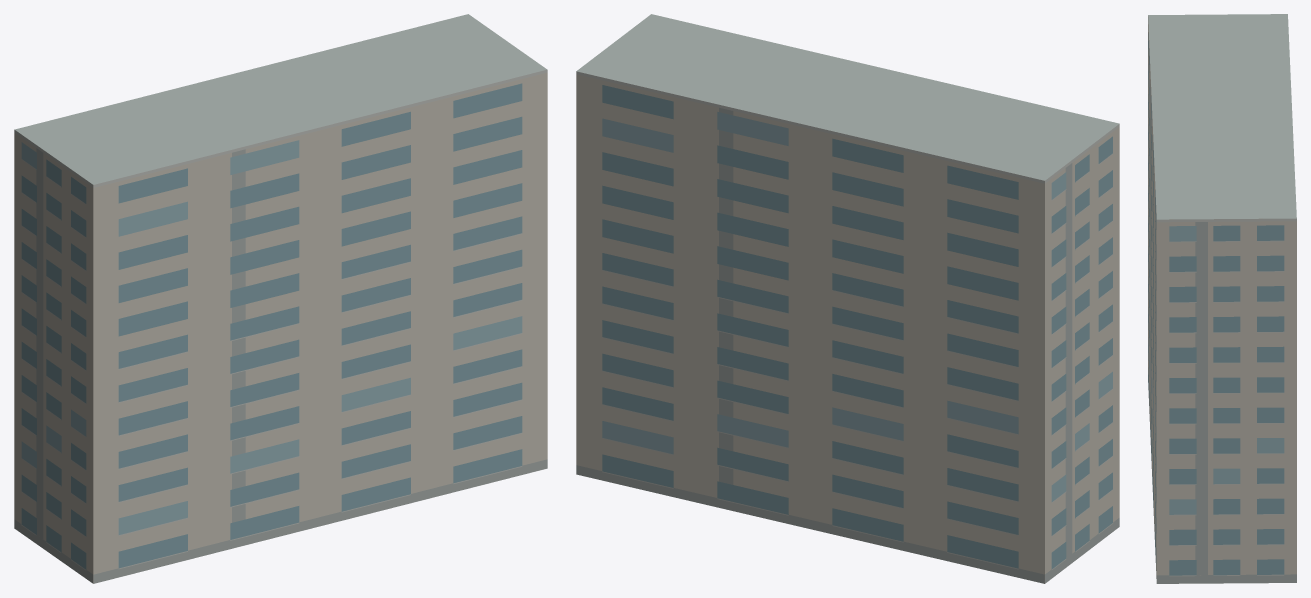
Rendered from residential-4689457f-b7f5-4725-b23d-1ede038d3e0c.glb.
3 renders of one model, left to right at view 1: azimuth 30°, elevation 25°; view 2: azimuth 150°, elevation 25°; view 3: azimuth 270°, elevation 25°, orthographic. The views are drawn at different scales.
Parts seen in each view (by area): view 1: residential-4689457f-b7f5-4725-b23d-1ede038d3e0c.tmp; view 2: residential-4689457f-b7f5-4725-b23d-1ede038d3e0c.tmp; view 3: residential-4689457f-b7f5-4725-b23d-1ede038d3e0c.tmp.
Boxes of the visible parts, box(x1,y1,x2,y2) form: residential-4689457f-b7f5-4725-b23d-1ede038d3e0c.tmp: box(14, 14, 547, 583); residential-4689457f-b7f5-4725-b23d-1ede038d3e0c.tmp: box(576, 14, 1119, 583); residential-4689457f-b7f5-4725-b23d-1ede038d3e0c.tmp: box(1148, 14, 1296, 583).
Bounding box in the file's own units: 39.94 × 33 × 12.22.
